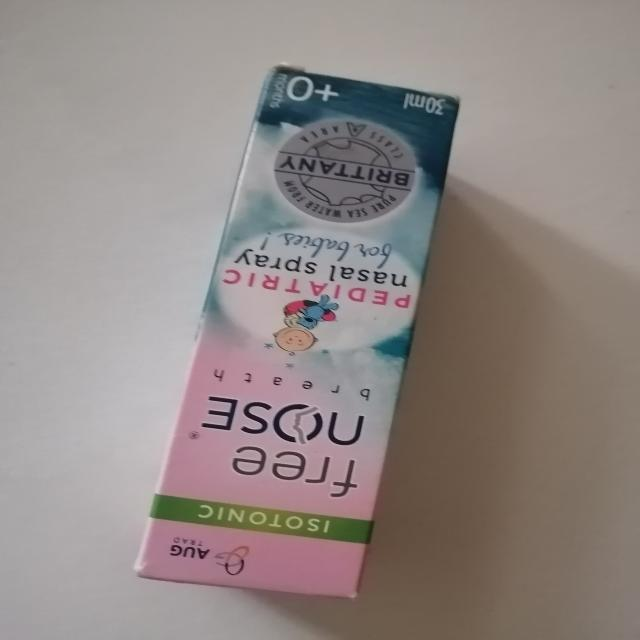Free Nose: (142, 61, 464, 597)
